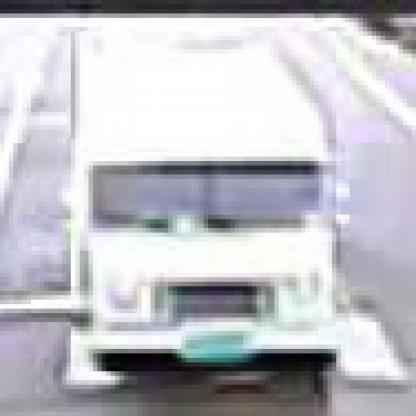bus: (72, 32, 342, 377)
